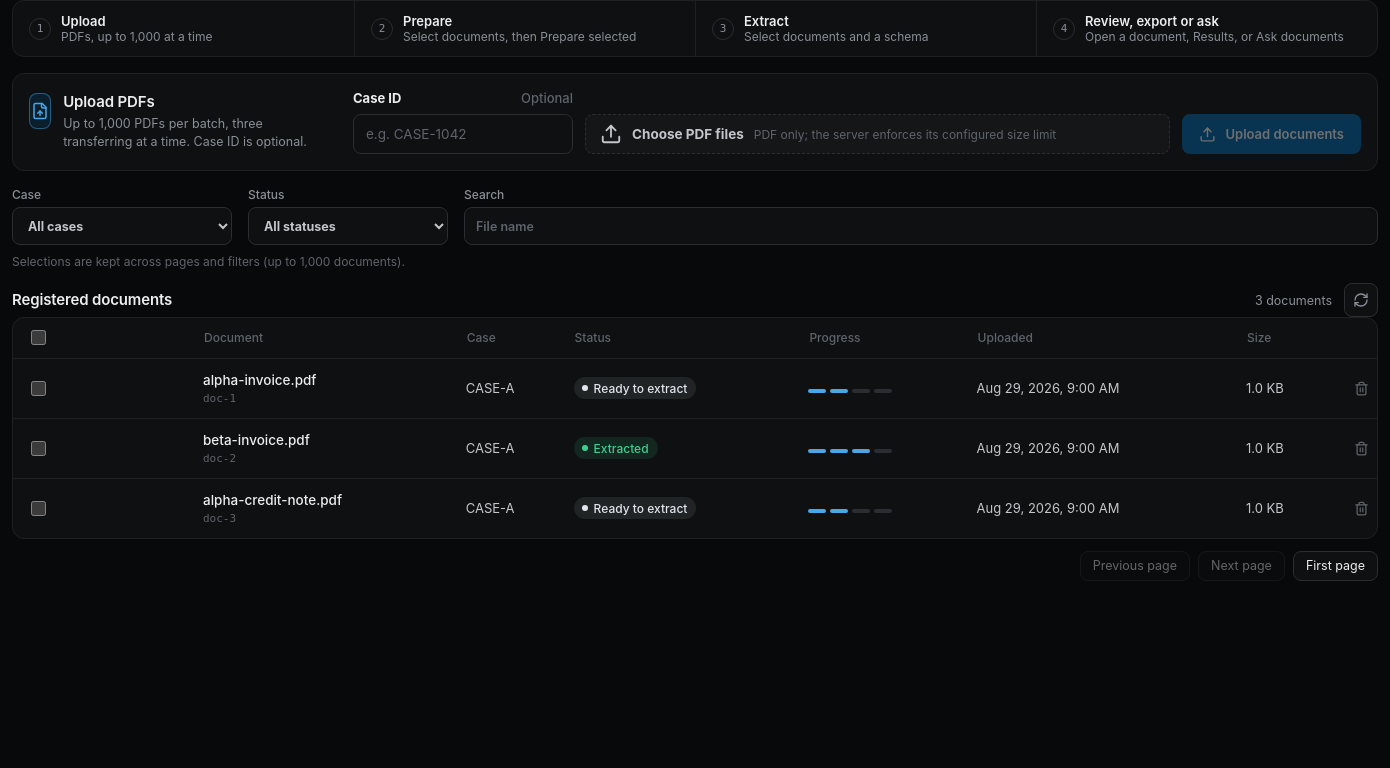
DocumentsPage › deletes a confirmed document and refreshes the registry
Click the button named "Delete alpha-invoice.pdf" at (1361, 388), box [1345,372,1377,404]
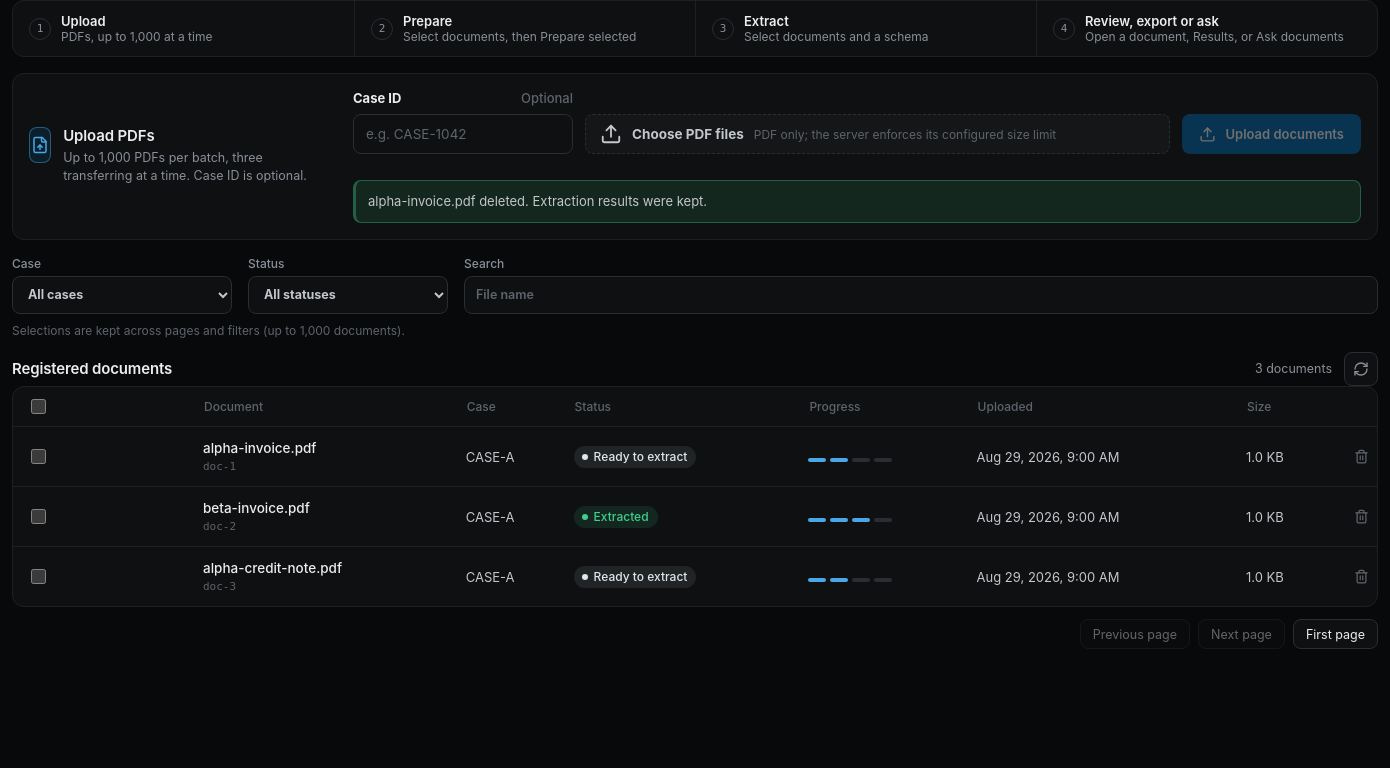
Now the text "alpha-invoice.pdf deleted. Extraction results were kept." is shown, box [353,180,1361,223]
